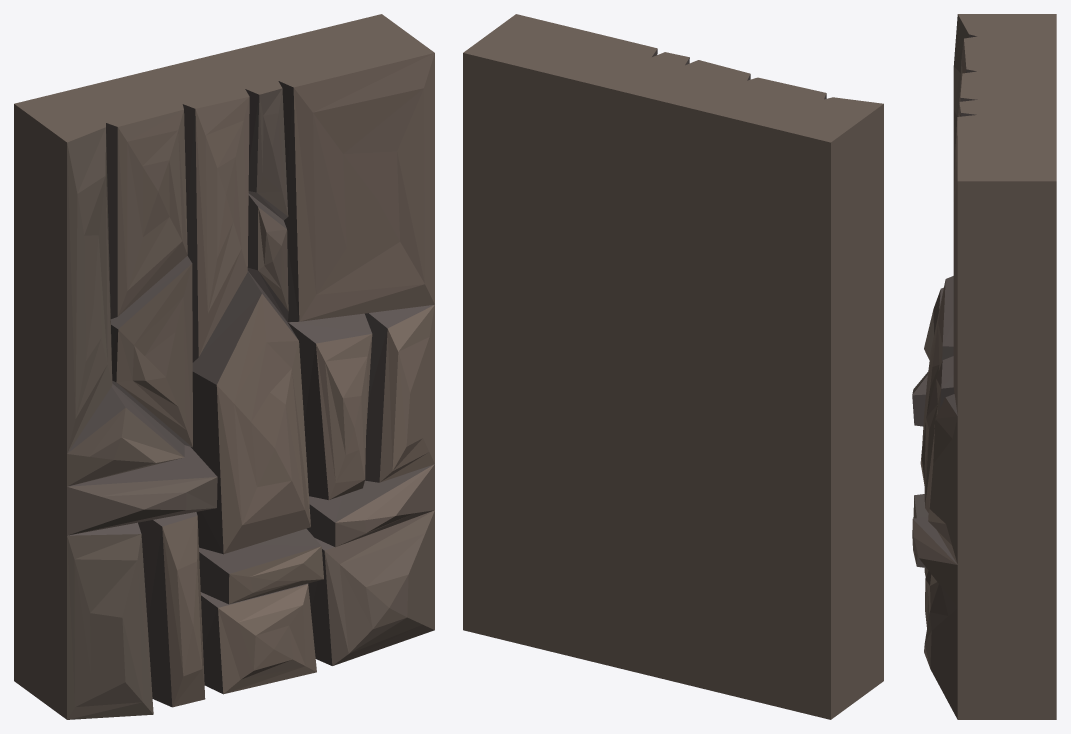
File: pf-ruined-lair-wall-176561.glb
3 renders of one model, left to right at view 1: azimuth 30°, elevation 25°; view 2: azimuth 150°, elevation 25°; view 3: azimuth 270°, elevation 25°, orthographic. The views are drawn at different scales.
Visible parts, largest first — view 1: wall; view 2: wall; view 3: wall.
Boxes of the visible parts, x1,y1,x2,y2 form: wall: (14,14,434,719); wall: (463,14,883,719); wall: (912,14,1056,719).
Size of the model in its own units: 4 by 6 by 1.46.
